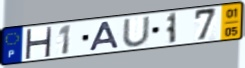1: (56, 23, 73, 57), (165, 11, 179, 46)
7: (193, 7, 219, 43)
A: (88, 20, 121, 53)
H: (24, 26, 54, 60)
U: (121, 15, 151, 49)
